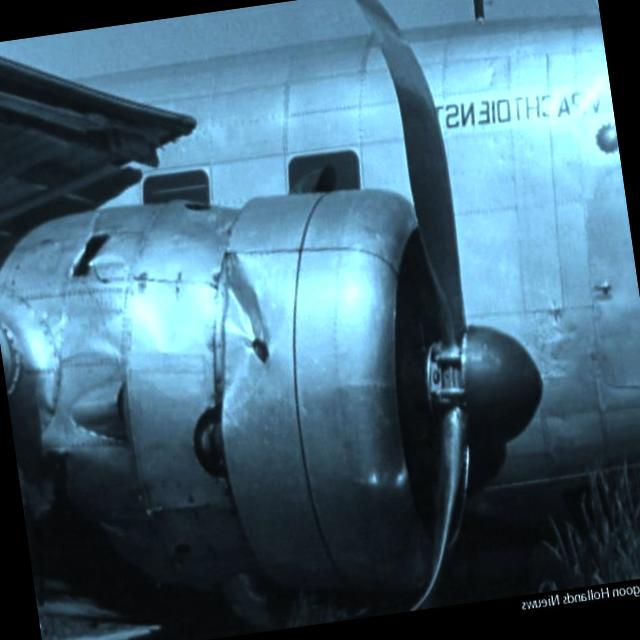dent: (234, 274, 274, 349)
